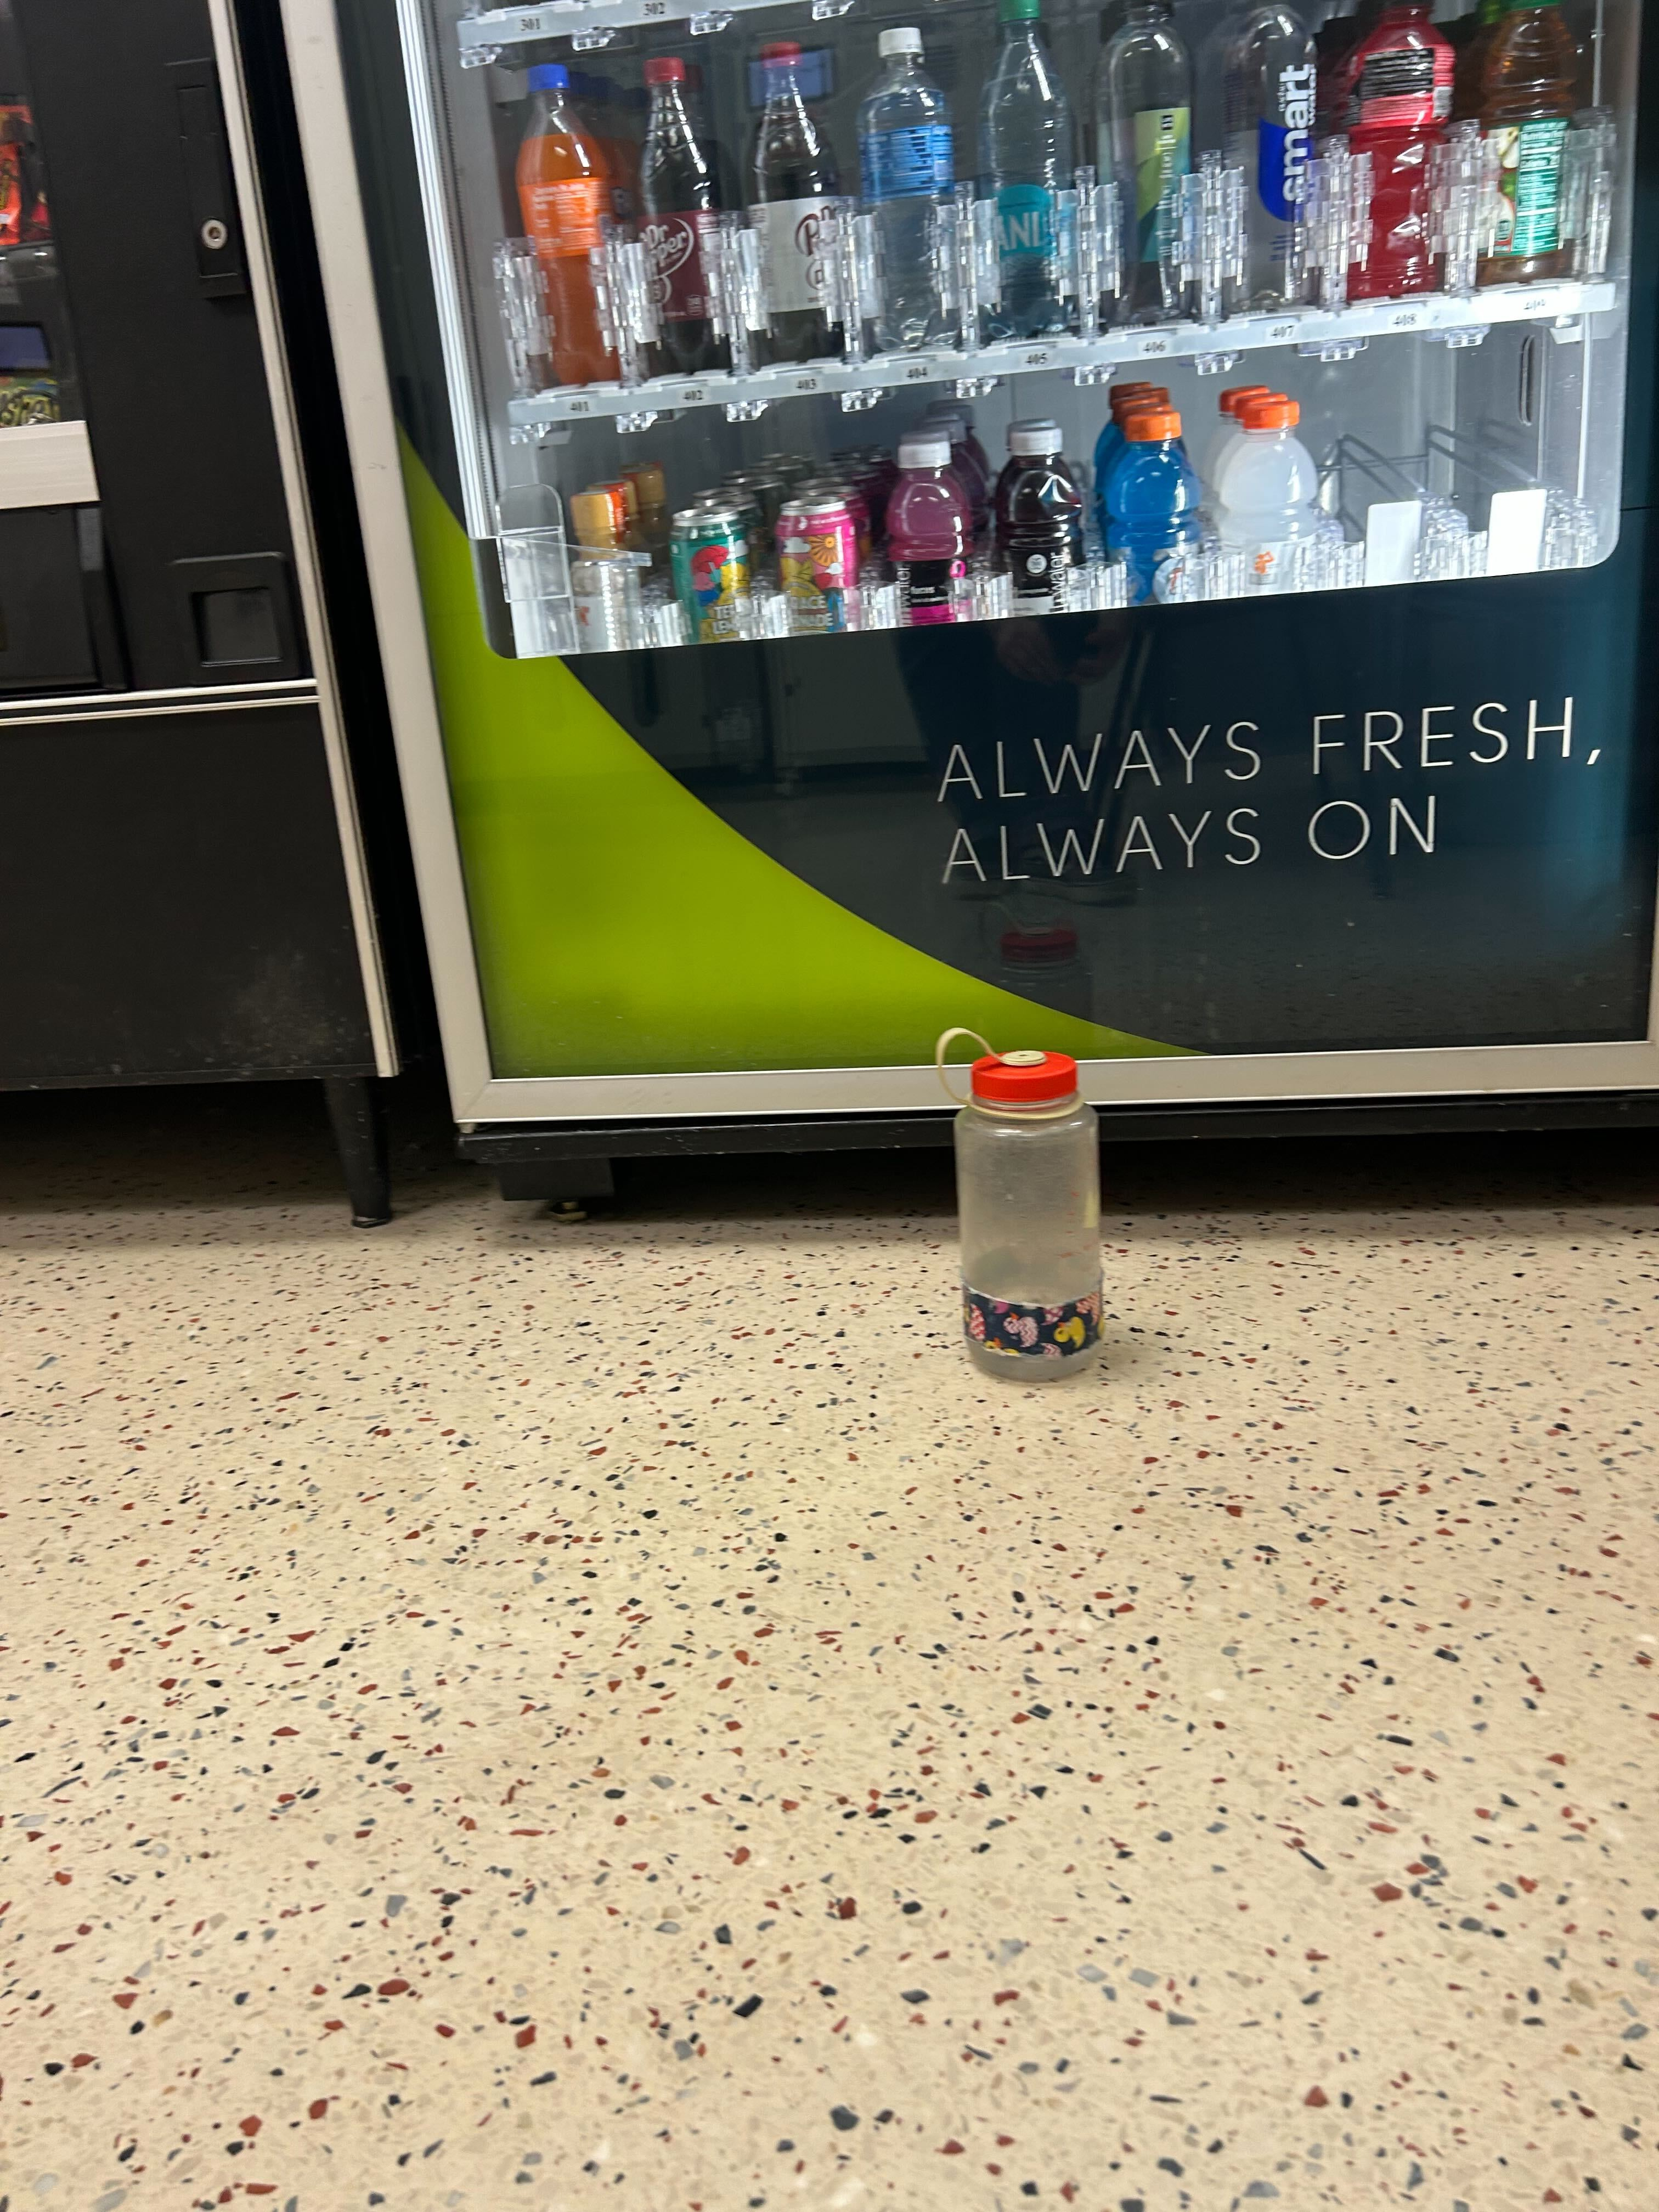bottle: (934, 1017, 1108, 1385)
